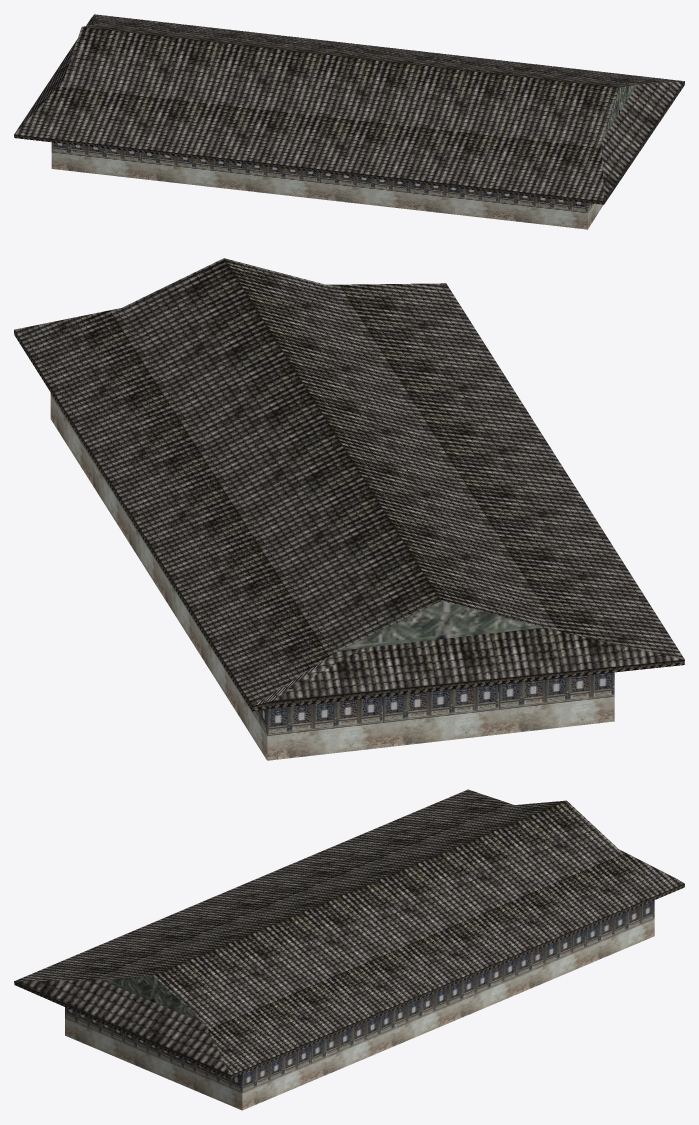
Rendered from ian1397.obj.
The picture shows the model from 3 angles, top to bottom: view 1: azimuth 30°, elevation 25°; view 2: azimuth 150°, elevation 25°; view 3: azimuth 270°, elevation 25°; orthographic projection. The views are drawn at different scales.
Parts seen in each view (by area): view 1: ian1397; view 2: ian1397; view 3: ian1397.
Boxes of the visible parts, x1,y1,x2,y2 form: ian1397: [14, 14, 684, 229]; ian1397: [14, 258, 684, 760]; ian1397: [14, 789, 684, 1110].
Bounding box in the file's own units: 649 × 104 × 644.
